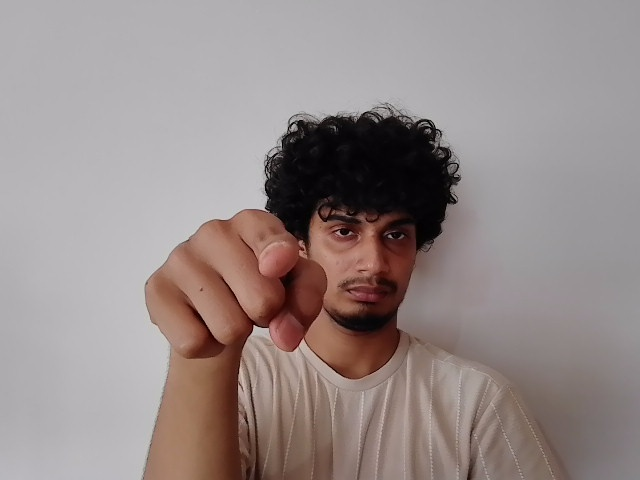you: (141, 205, 333, 375)
